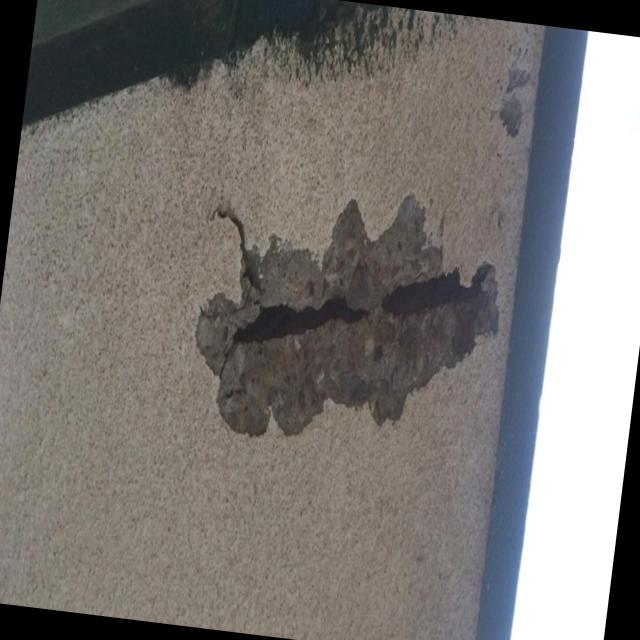spalling: (195, 189, 498, 441)
